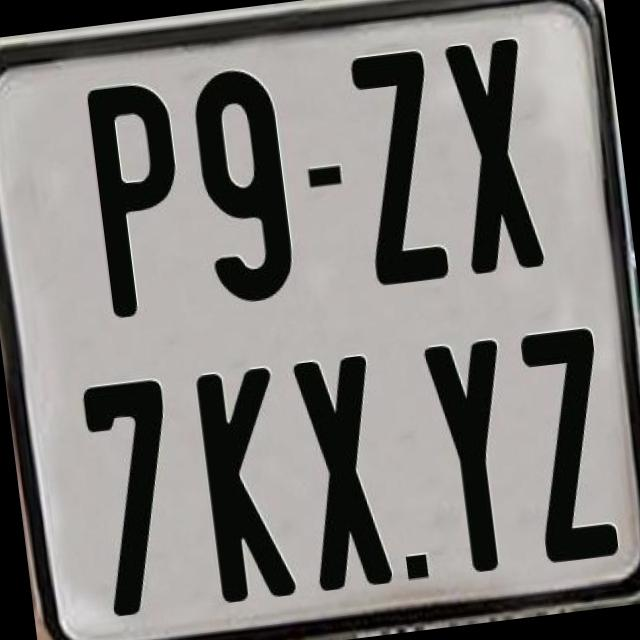7: (78, 374, 194, 624)
9: (185, 63, 299, 312)
K: (192, 366, 301, 612)
P: (81, 76, 192, 318)
X: (291, 350, 392, 586), (440, 37, 540, 273)
Y: (419, 338, 519, 574)
Z: (348, 44, 456, 291), (518, 322, 620, 568)
